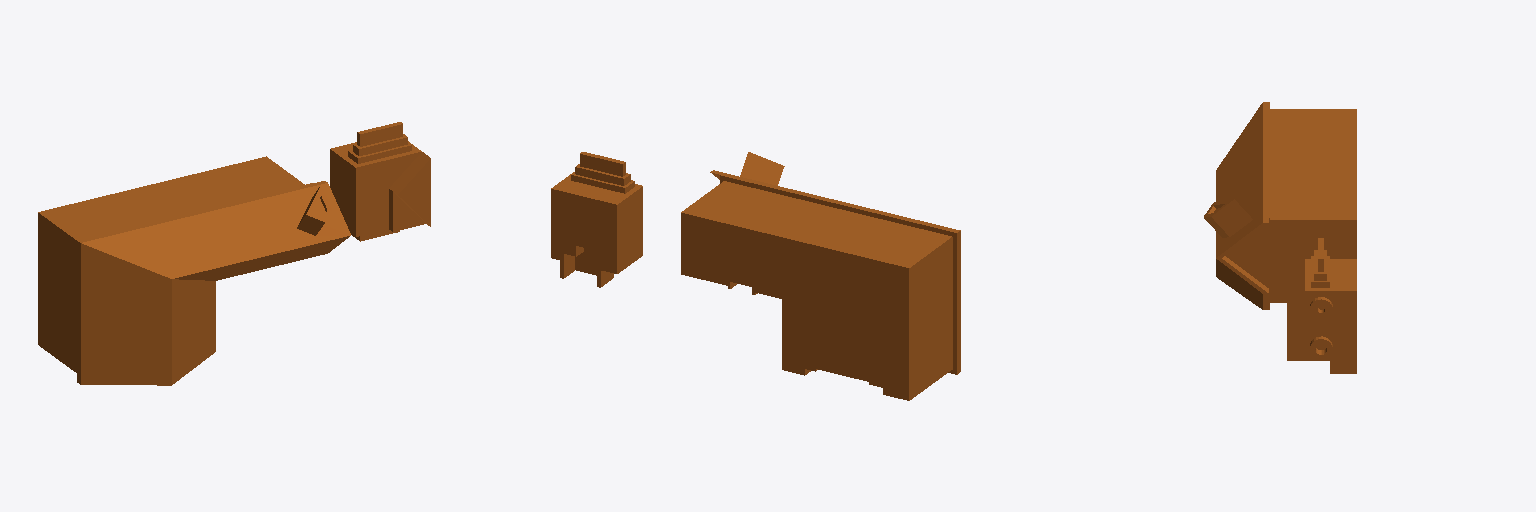
Rendered from houses.obj.
3 views of the same model, side by side, from view 1: azimuth 30°, elevation 25°; view 2: azimuth 150°, elevation 25°; view 3: azimuth 270°, elevation 25° (orthographic).
Parts seen in each view (by area): view 1: Mesh1 Model, Mesh2 Model; view 2: Mesh1 Model, Mesh2 Model; view 3: Mesh1 Model, Mesh2 Model.
Boxes of the visible parts, box(x1,y1,x2,y2) form: Mesh1 Model: box(38, 156, 350, 385); Mesh2 Model: box(330, 122, 430, 241); Mesh1 Model: box(681, 152, 960, 400); Mesh2 Model: box(551, 152, 642, 287); Mesh1 Model: box(1204, 102, 1356, 309); Mesh2 Model: box(1287, 238, 1356, 373).
Size of the model in its own units: 652 by 263 by 235.